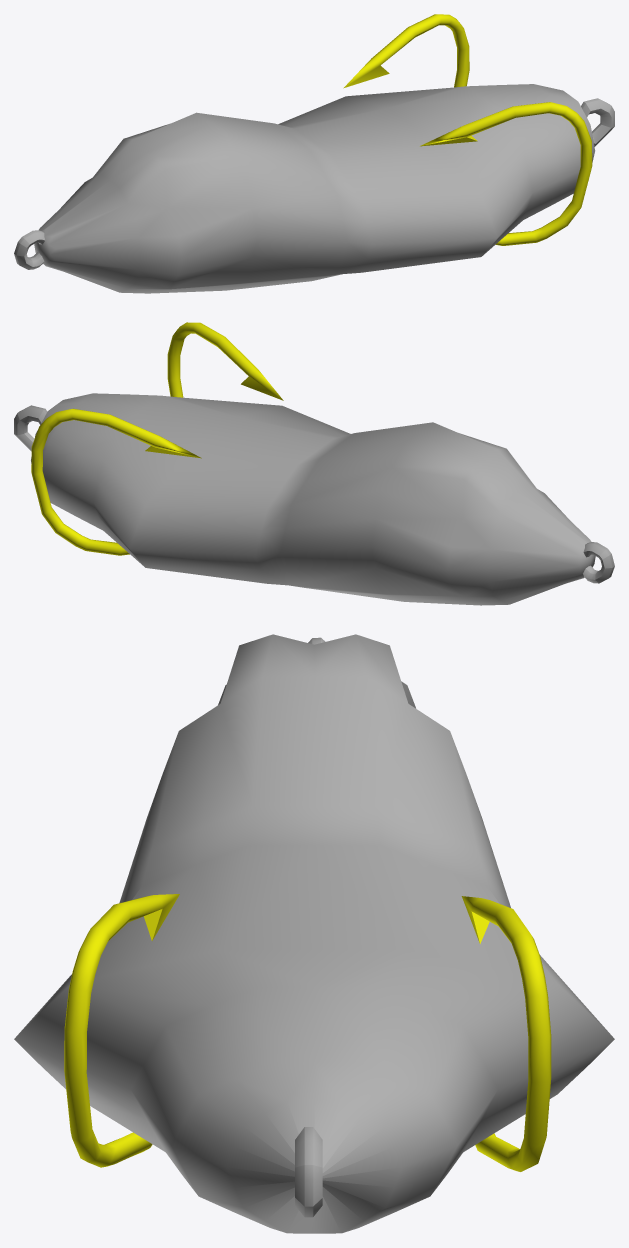
File: Flog 1.fbx
The picture shows the model from 3 angles, top to bottom: view 1: azimuth 30°, elevation 25°; view 2: azimuth 150°, elevation 25°; view 3: azimuth 270°, elevation 25°; orthographic projection. The views are drawn at different scales.
Parts seen in each view (by area): view 1: polySurface460; view 2: polySurface460; view 3: polySurface460.
Boxes of the visible parts, x1,y1,x2,y2 form: polySurface460: [14, 14, 614, 293]; polySurface460: [14, 322, 614, 605]; polySurface460: [14, 634, 614, 1233].
Bounding box in the file's own units: 0.0631 × 0.0165 × 0.0307.
